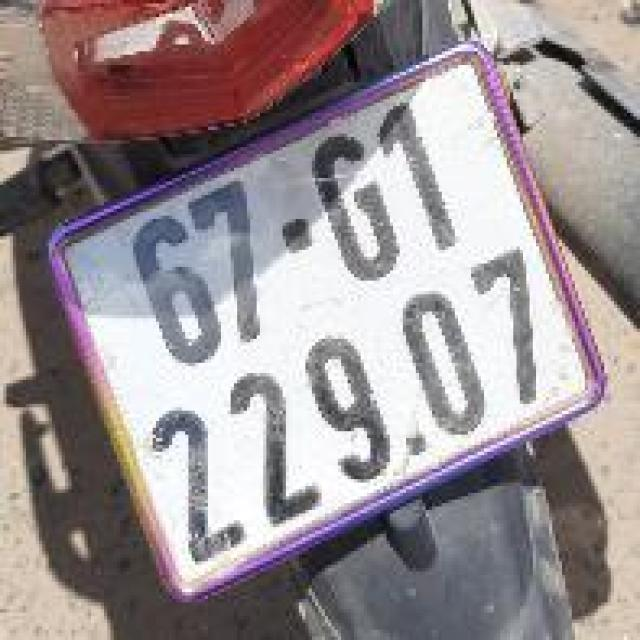0: (380, 276, 500, 449)
1: (368, 88, 481, 272)
2: (208, 348, 341, 544), (134, 382, 265, 576)
6: (117, 202, 235, 380)
7: (175, 169, 296, 355), (457, 236, 561, 414)
9: (284, 319, 409, 501)
G: (295, 115, 414, 295)
